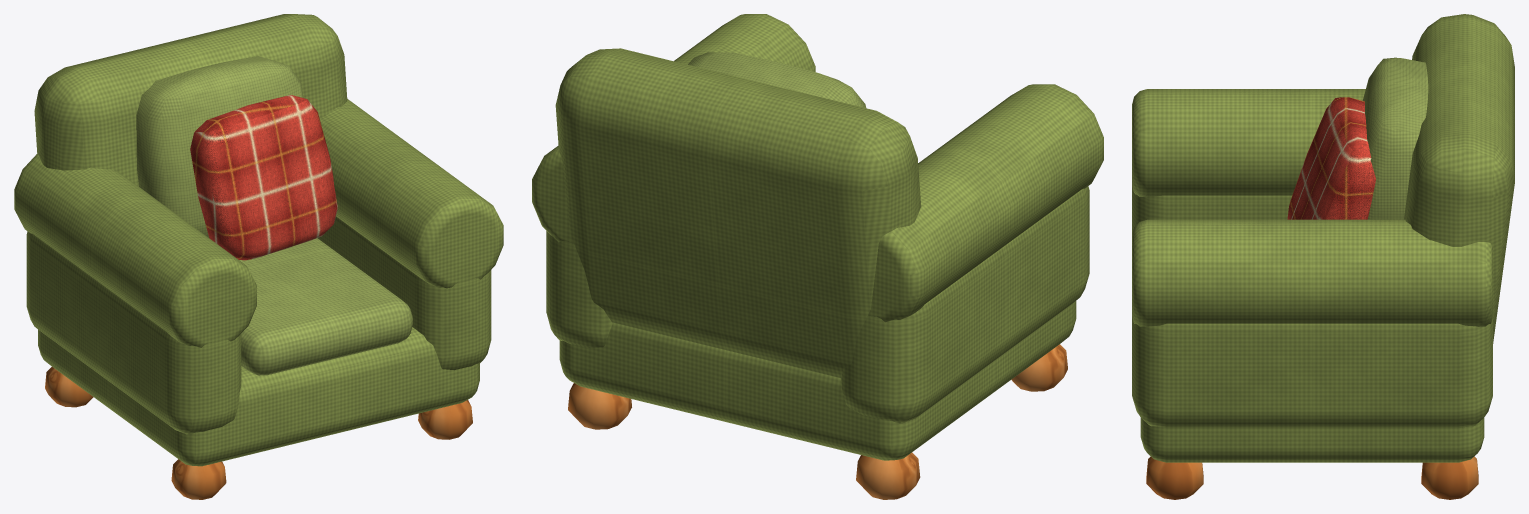
File: armchair.glb
The picture shows the model from 3 angles, left to right: view 1: azimuth 30°, elevation 25°; view 2: azimuth 150°, elevation 25°; view 3: azimuth 270°, elevation 25°; orthographic projection. The views are drawn at different scales.
Visible parts, largest first — view 1: model; view 2: model; view 3: model.
Boxes of the visible parts, box(x1,y1,x2,y2) form: model: box(14, 14, 503, 499); model: box(532, 14, 1103, 499); model: box(1132, 14, 1514, 499).
Bounding box in the file's own units: 0.9735 × 0.8988 × 0.8909.
Materials: 4 (4 with a texture image).
